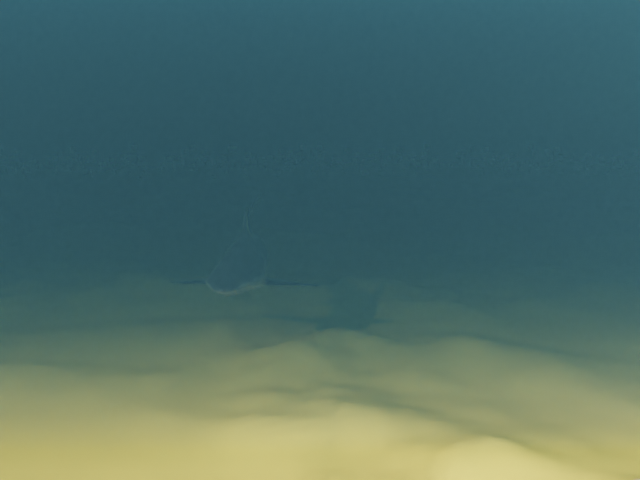Carribean Shark.001: (170, 193, 321, 295)
